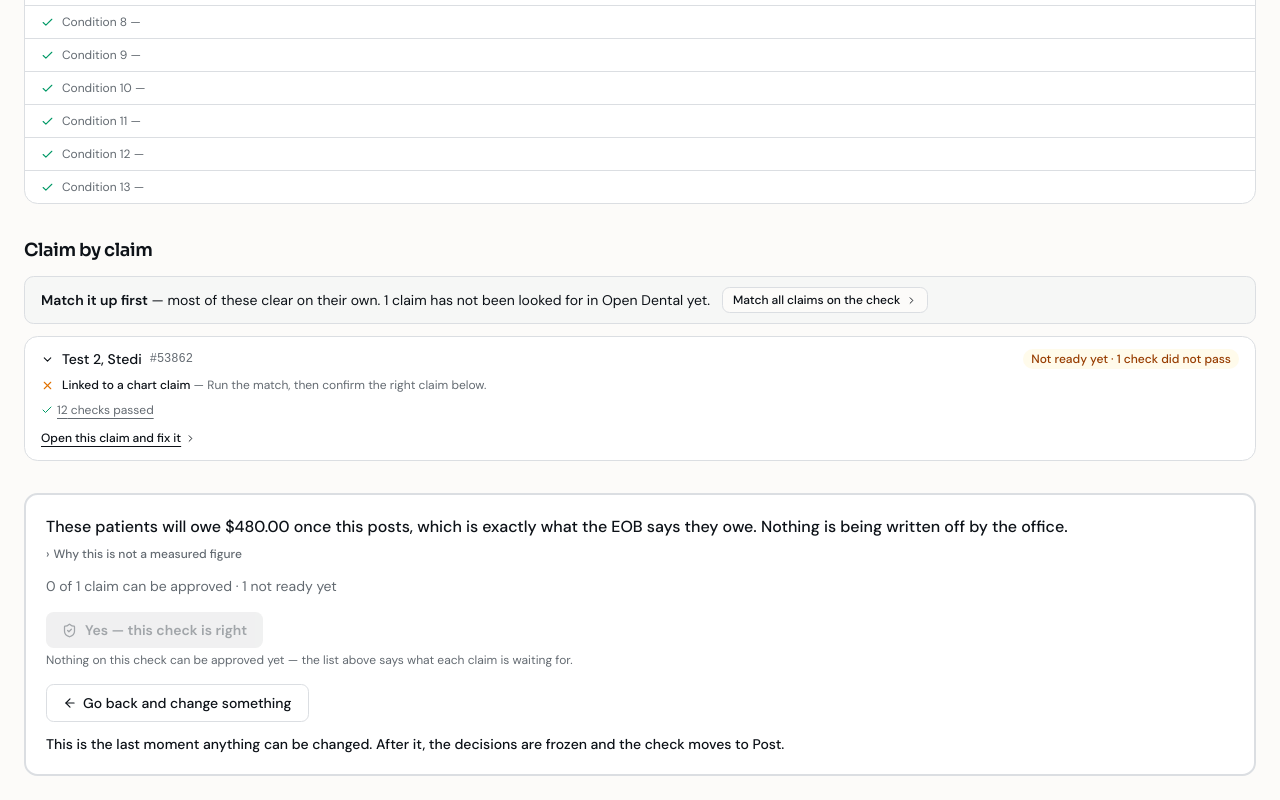
Test: the approve page's checklist › opens the passing ones on a click — the facts stay reachable
(page scrolled)
What coordinates should you click on to do the following:
click the button with test id "approval-passed-toggle-c-1"
I would click on:
 (97, 410)
Its box is [41,402,154,418].
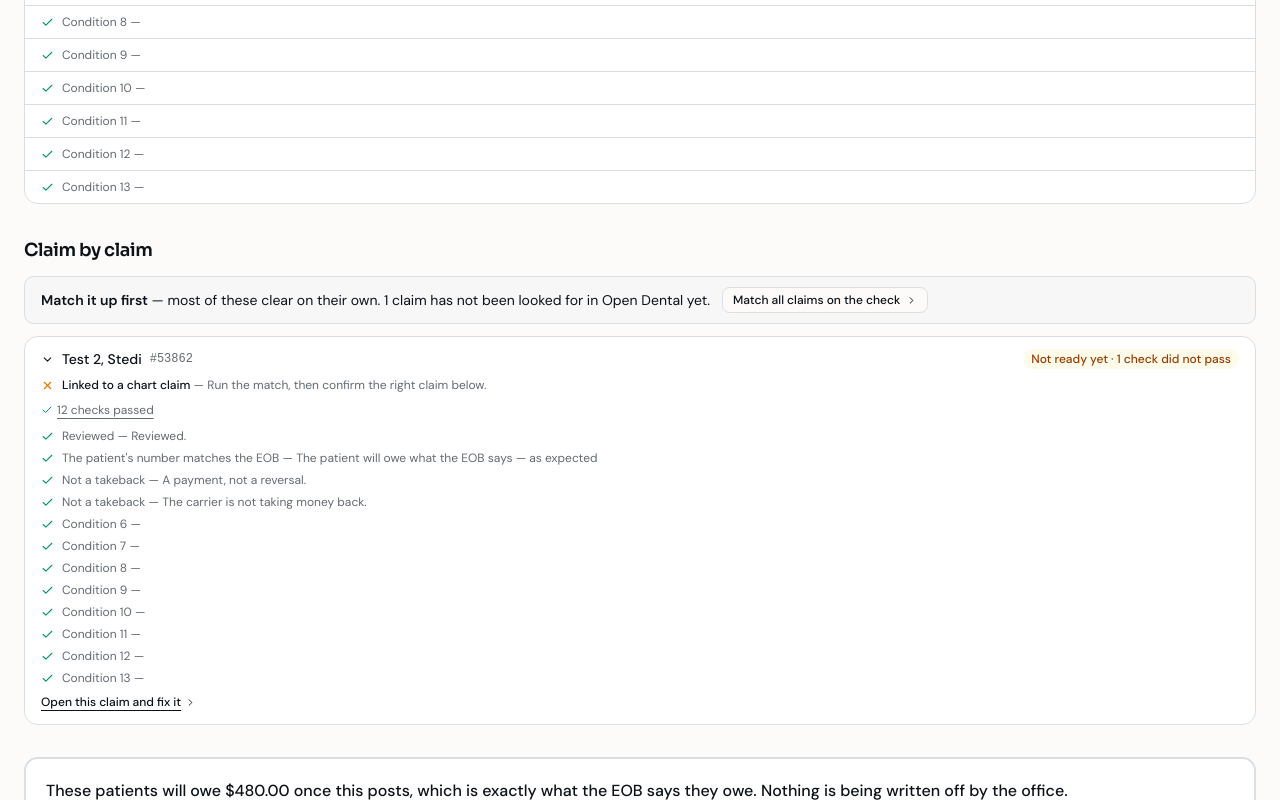
expect the list item with test id "check-REVIEWED" is shown: met, box [41,428,186,444]
